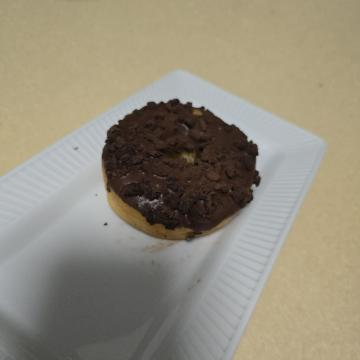doughnut: (88, 87, 266, 268)
